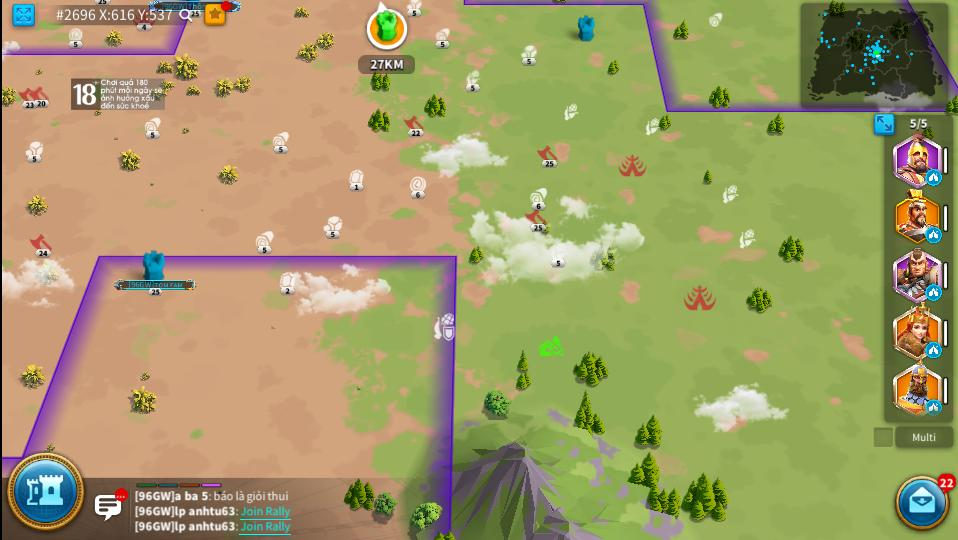gem-z-out: (279, 271, 296, 293), (348, 170, 364, 191)
march_idle: (925, 228, 942, 242), (926, 170, 940, 185), (927, 400, 941, 415), (926, 285, 940, 299), (928, 343, 940, 357)
